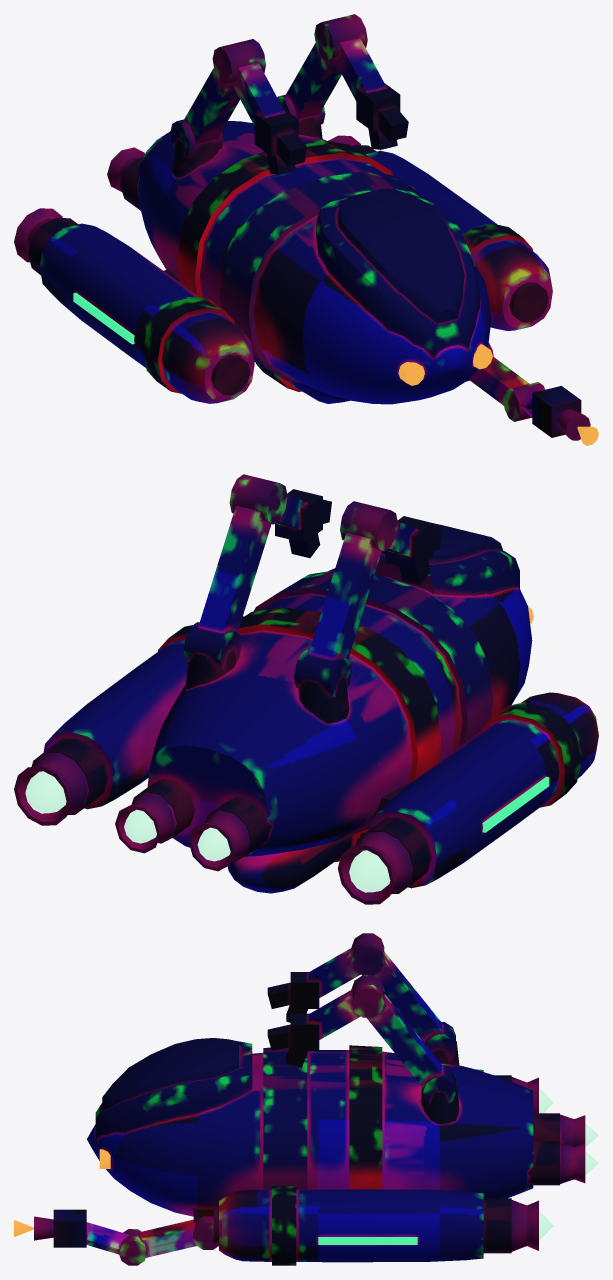
File: repair_drone.glb
3 renders of one model, top to bottom at view 1: azimuth 30°, elevation 25°; view 2: azimuth 150°, elevation 25°; view 3: azimuth 270°, elevation 25°, orthographic. The views are drawn at different scales.
Visible parts, largest first — view 1: repair_drone; view 2: repair_drone; view 3: repair_drone.
Boxes of the visible parts, bbox=[...] form: repair_drone: bbox=[14, 14, 598, 445]; repair_drone: bbox=[14, 474, 598, 904]; repair_drone: bbox=[14, 933, 598, 1265].
Bounding box in the file's own units: 3.35 × 2.87 × 5.31.
Materials: 11 (8 with a texture image).
